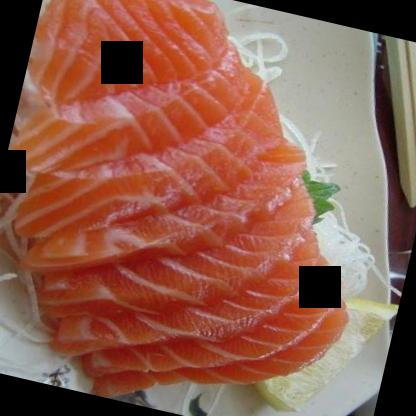salmon: (0, 0, 410, 415)
